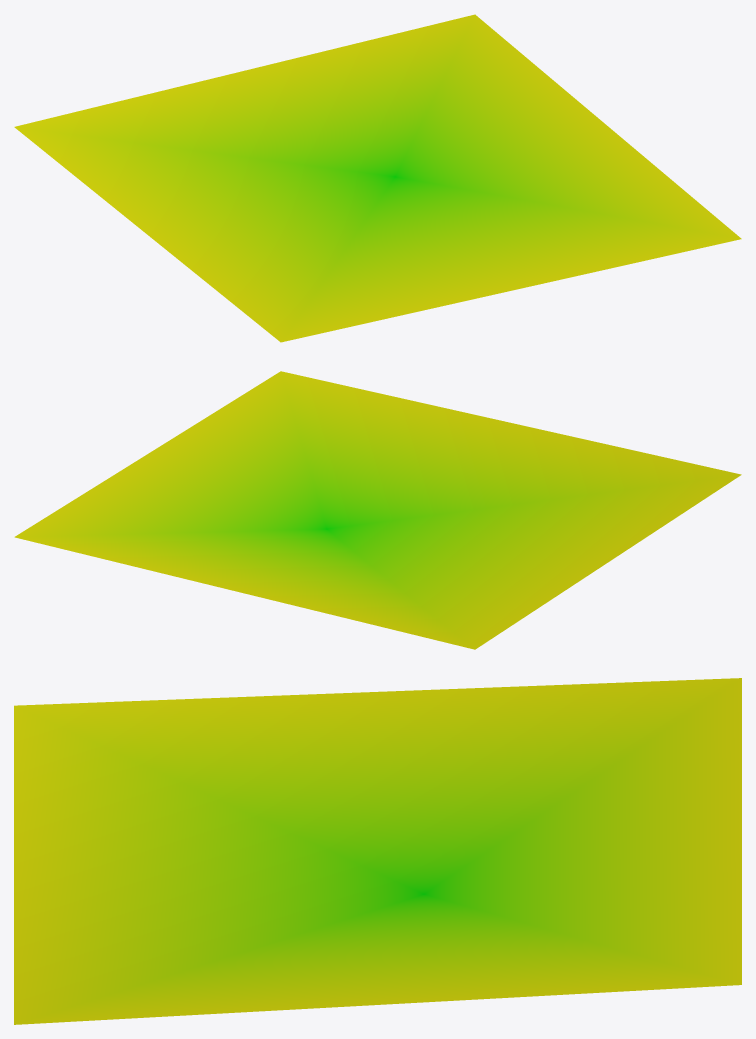
File: Broadleaf Plantain_LOD4_Var4_sfhjc.fbx
The picture shows the model from 3 angles, top to bottom: view 1: azimuth 30°, elevation 25°; view 2: azimuth 150°, elevation 25°; view 3: azimuth 270°, elevation 25°; orthographic projection. The views are drawn at different scales.
Visible parts, largest first — view 1: _b6a9_Var4_LOD4; view 2: _b6a9_Var4_LOD4; view 3: _b6a9_Var4_LOD4.
Part boxes in pixels (box(x1,y1,x2,y2)): _b6a9_Var4_LOD4: box(14, 14, 741, 342); _b6a9_Var4_LOD4: box(14, 371, 741, 649); _b6a9_Var4_LOD4: box(14, 678, 741, 1024).
Size of the model in its own units: 19.03 by 1.15 by 19.08.
